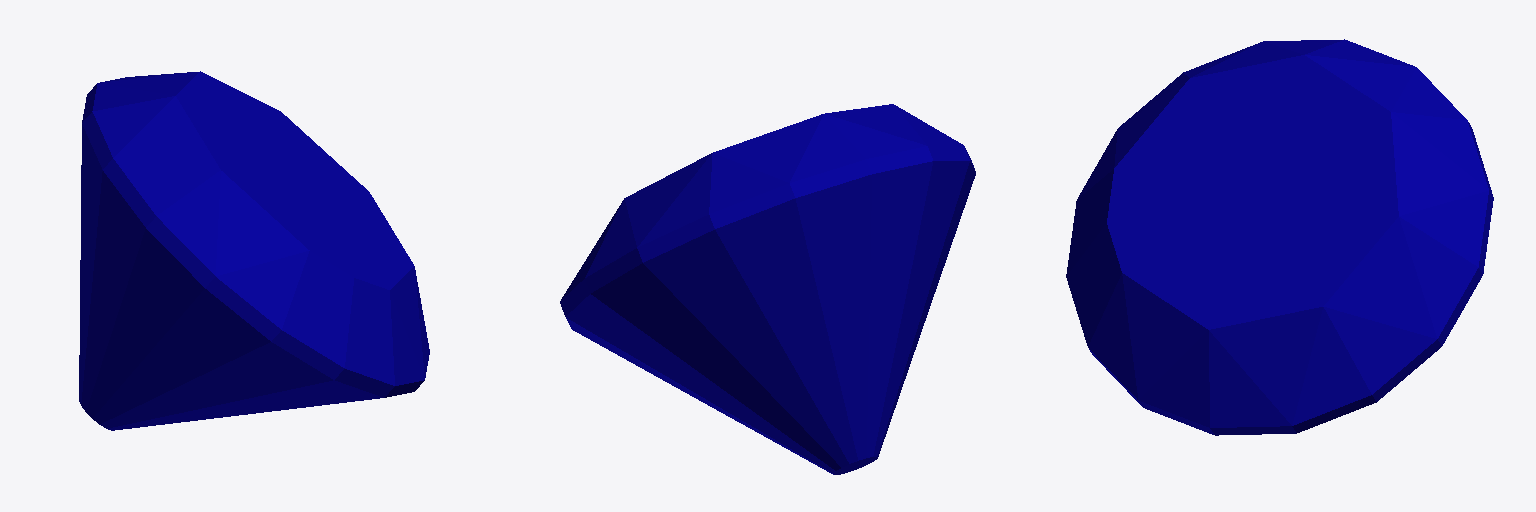
Rendered from Diamond.obj.
3 renders of one model, left to right at view 1: azimuth 30°, elevation 25°; view 2: azimuth 150°, elevation 25°; view 3: azimuth 270°, elevation 25°, orthographic.
Visible parts, largest first — view 1: Mesh_diamond; view 2: Mesh_diamond; view 3: Mesh_diamond.
Boxes of the visible parts, <box> form: Mesh_diamond: <box>79,71,429,430</box>; Mesh_diamond: <box>560,104,975,474</box>; Mesh_diamond: <box>1066,39,1493,435</box>.
Bounding box in the file's own units: 3.77 × 3.8 × 4.38.